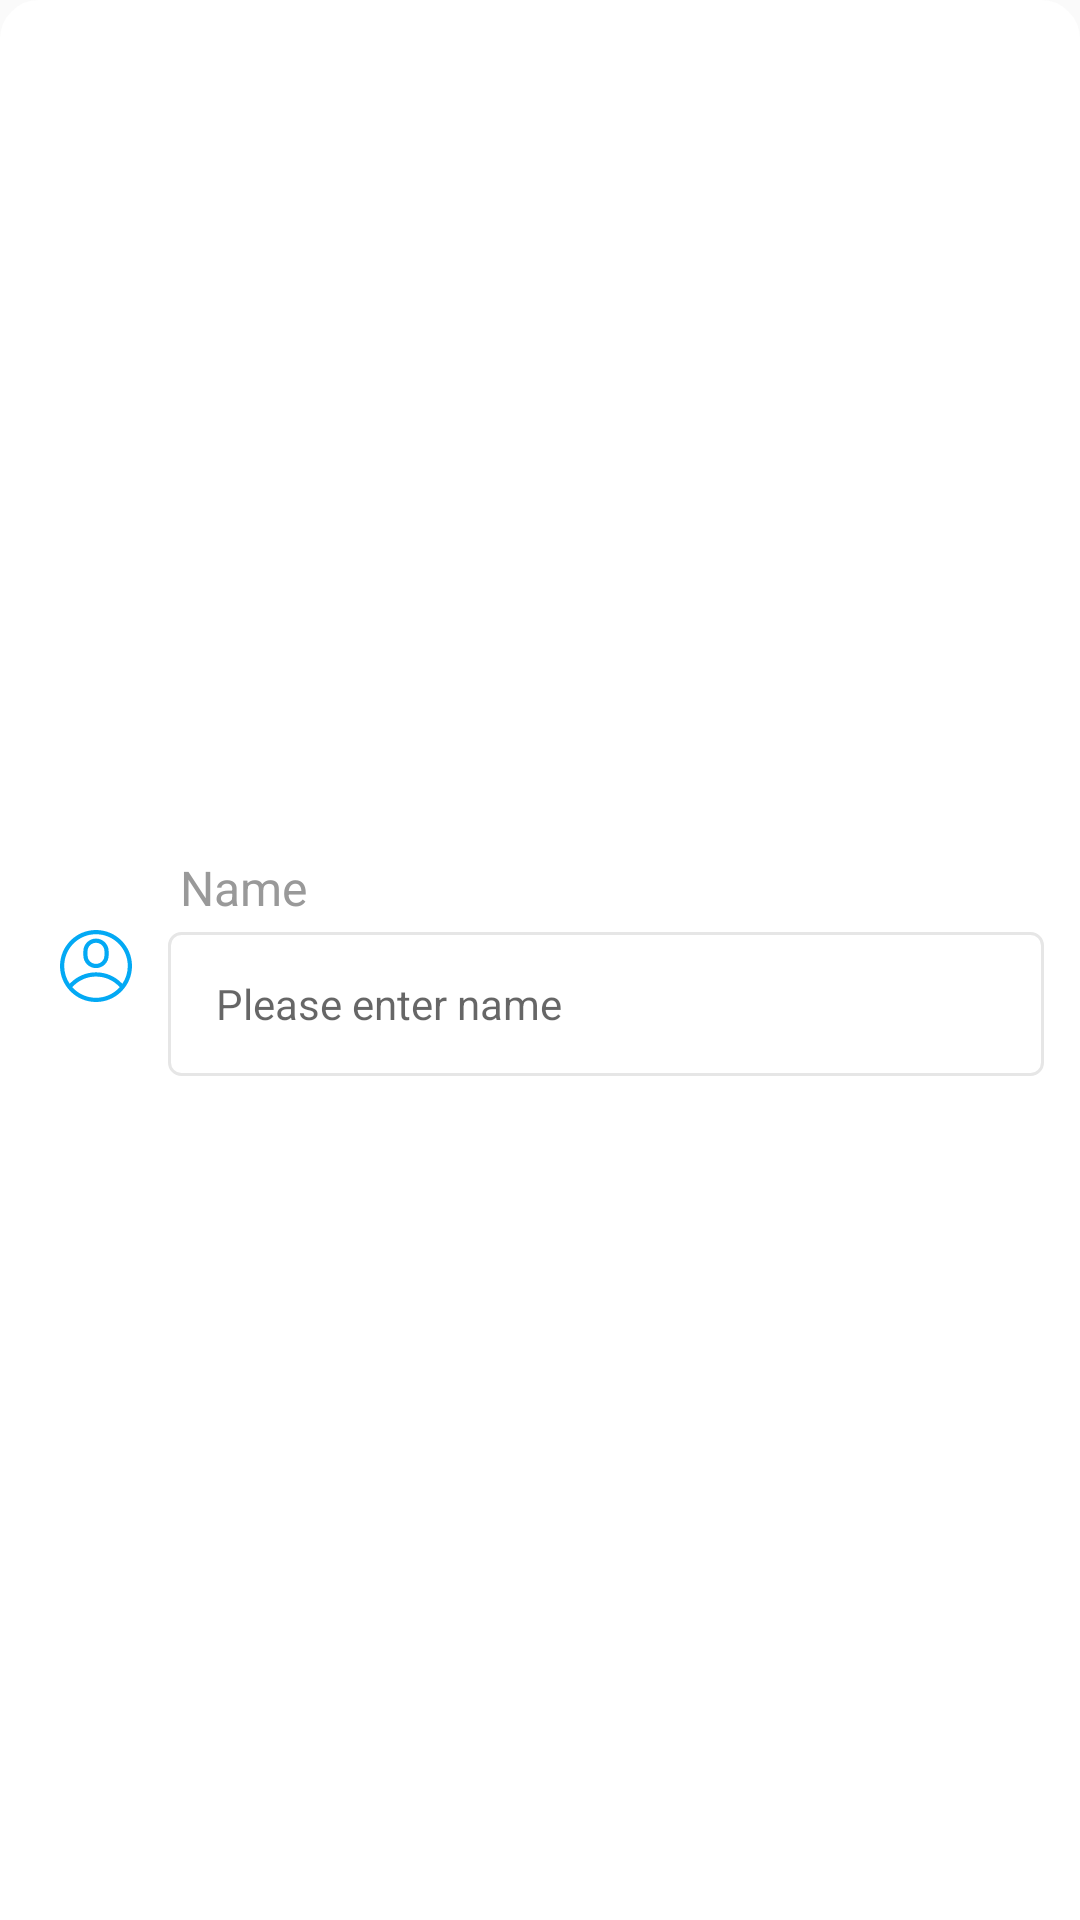

Icons on this 1080px×1920px Android screen, each with the point to tap as (x=x, y=y):
account: (x=96, y=966)
